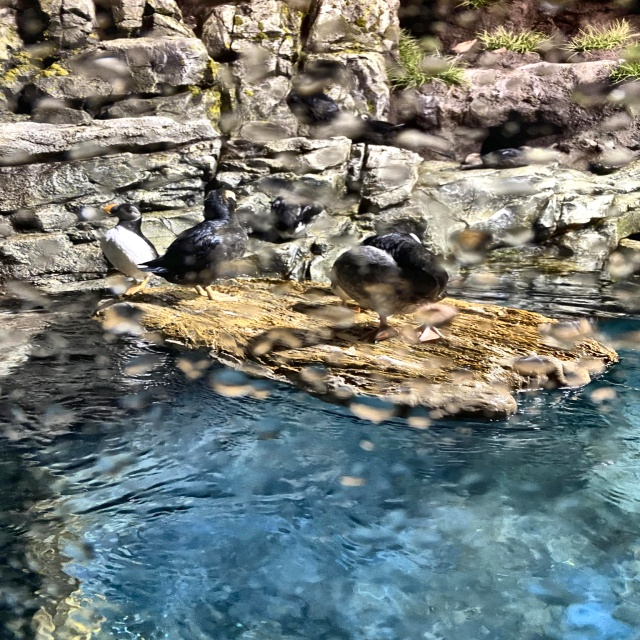puffin: (320, 212, 460, 338), (159, 192, 262, 293), (92, 198, 152, 289)
